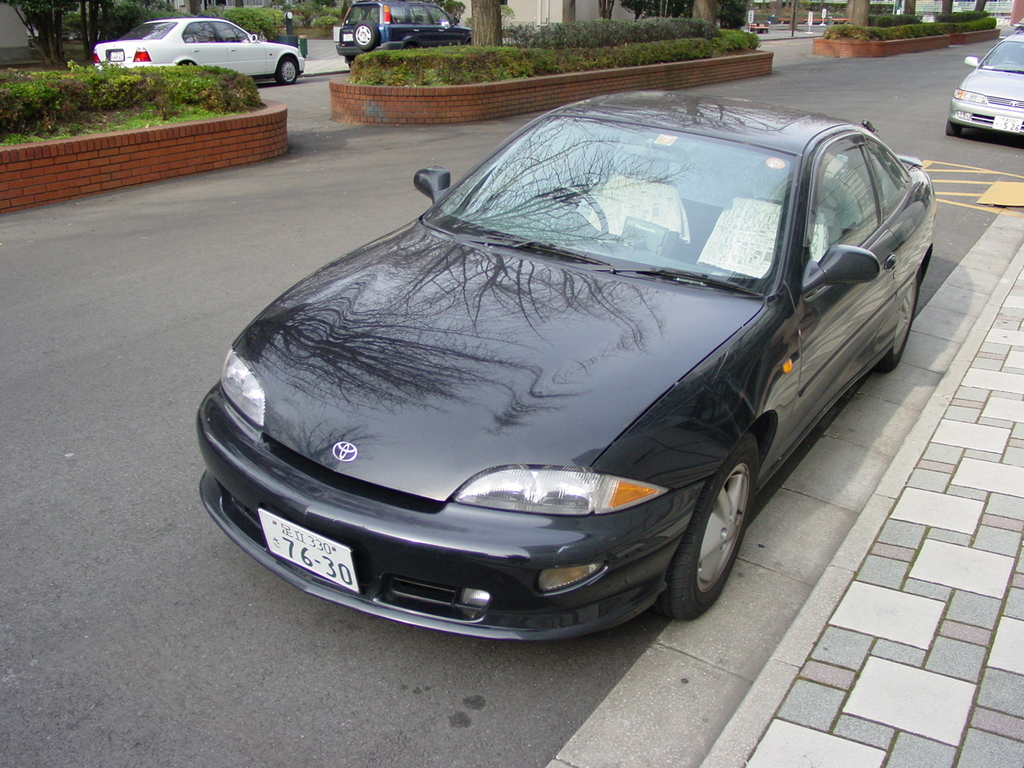Car: (216, 98, 920, 646), (86, 12, 302, 88), (947, 21, 1023, 151), (334, 0, 472, 65)
